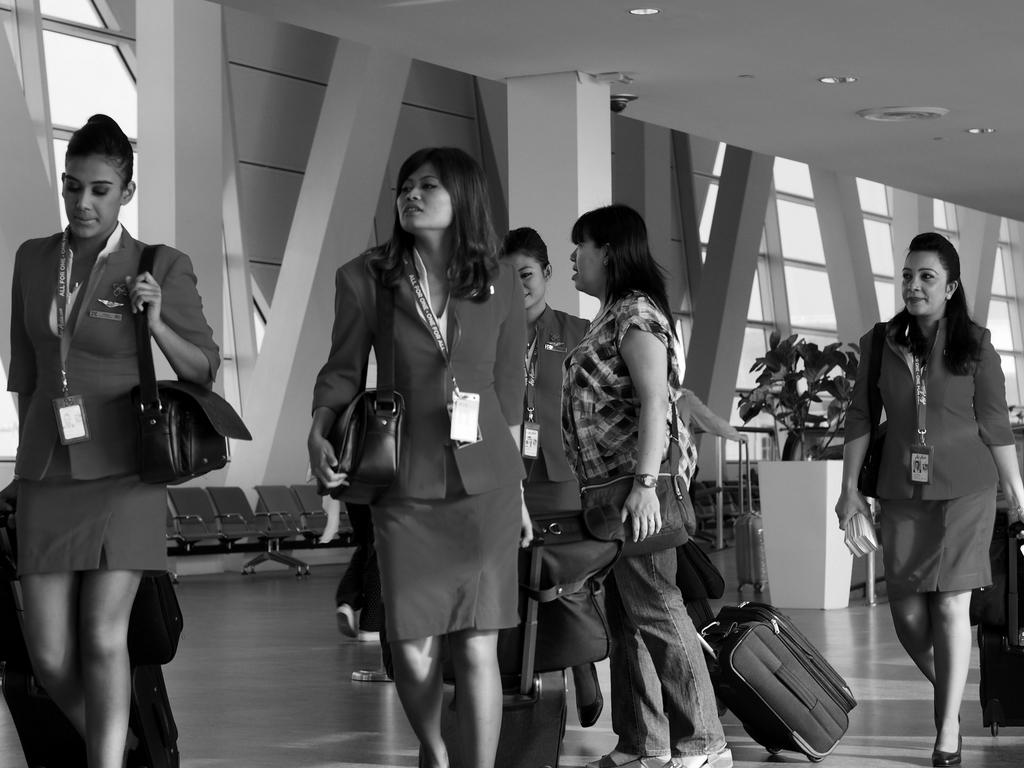Luggage-and-bags: (0, 479, 182, 767), (419, 528, 568, 767), (126, 241, 255, 487), (575, 295, 694, 549), (318, 240, 401, 504), (721, 618, 825, 753), (973, 525, 1023, 740), (730, 435, 769, 598)
